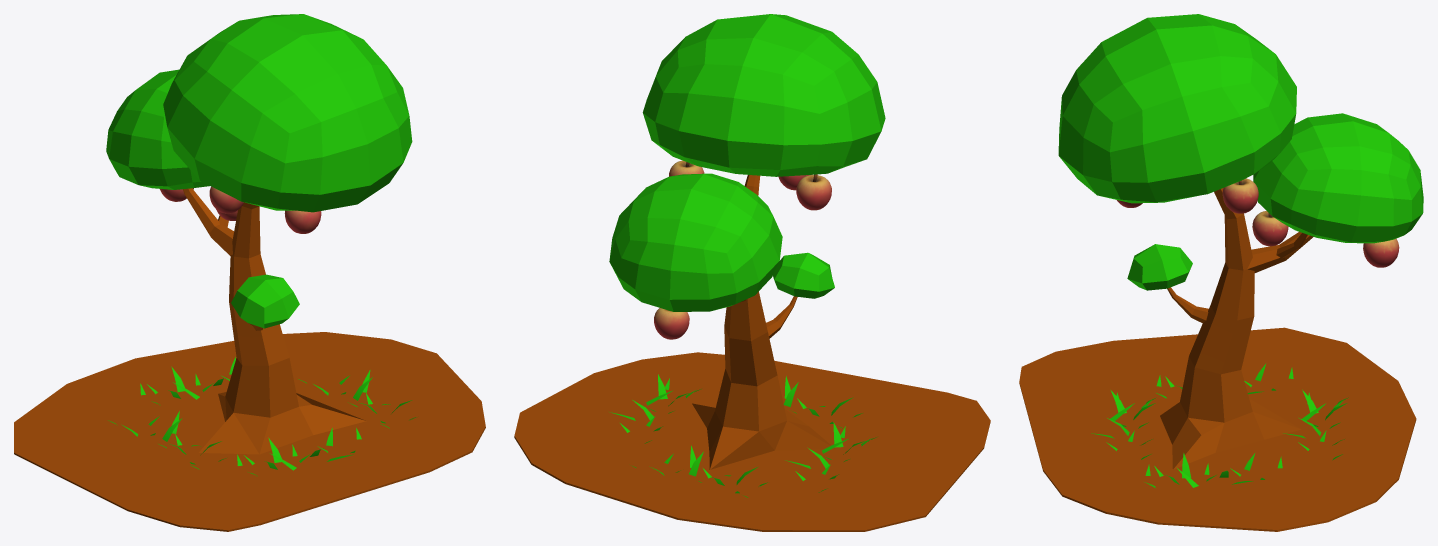
File: TreeFruitedSingle.glb
3 renders of one model, left to right at view 1: azimuth 30°, elevation 25°; view 2: azimuth 150°, elevation 25°; view 3: azimuth 270°, elevation 25°, orthographic. The views are drawn at different scales.
Visible parts, largest first — view 1: TreeFruits1; view 2: TreeFruits1; view 3: TreeFruits1.
Part boxes in pixels (x1=…): TreeFruits1: x1=14, y1=14, x2=485, y2=531; TreeFruits1: x1=514, y1=14, x2=990, y2=531; TreeFruits1: x1=1019, y1=14, x2=1423, y2=531.
Size of the model in its own units: 1.58 by 1.48 by 1.33.
2 materials, 2 textured.
